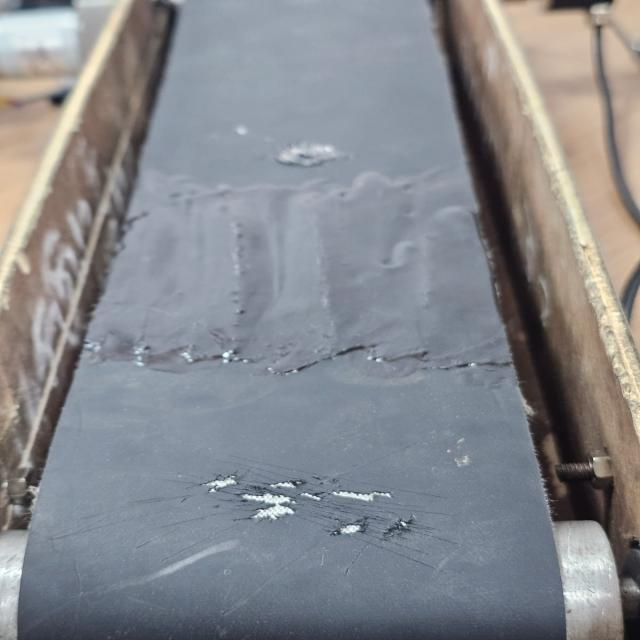Joint_Damage: (89, 166, 508, 374)
eroded: (274, 140, 351, 168)
scratch: (158, 456, 459, 568)
